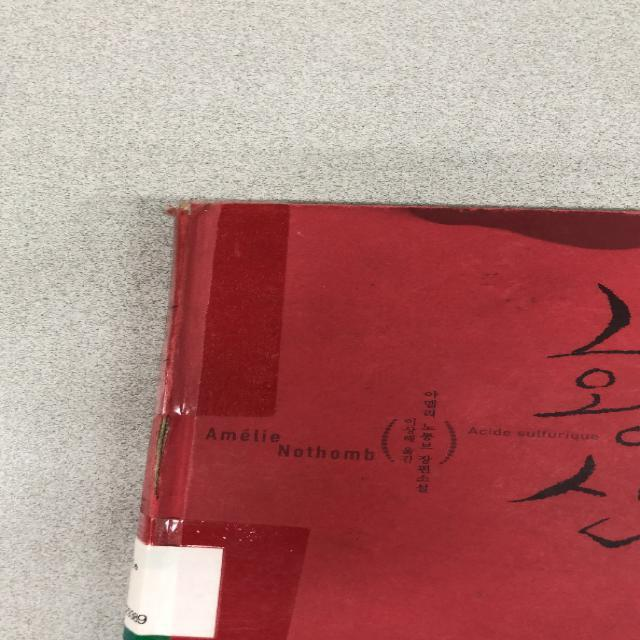Ripped: (147, 417, 173, 504), (156, 194, 207, 227)
Wornout: (380, 202, 510, 216), (511, 204, 639, 218), (278, 199, 377, 213)
